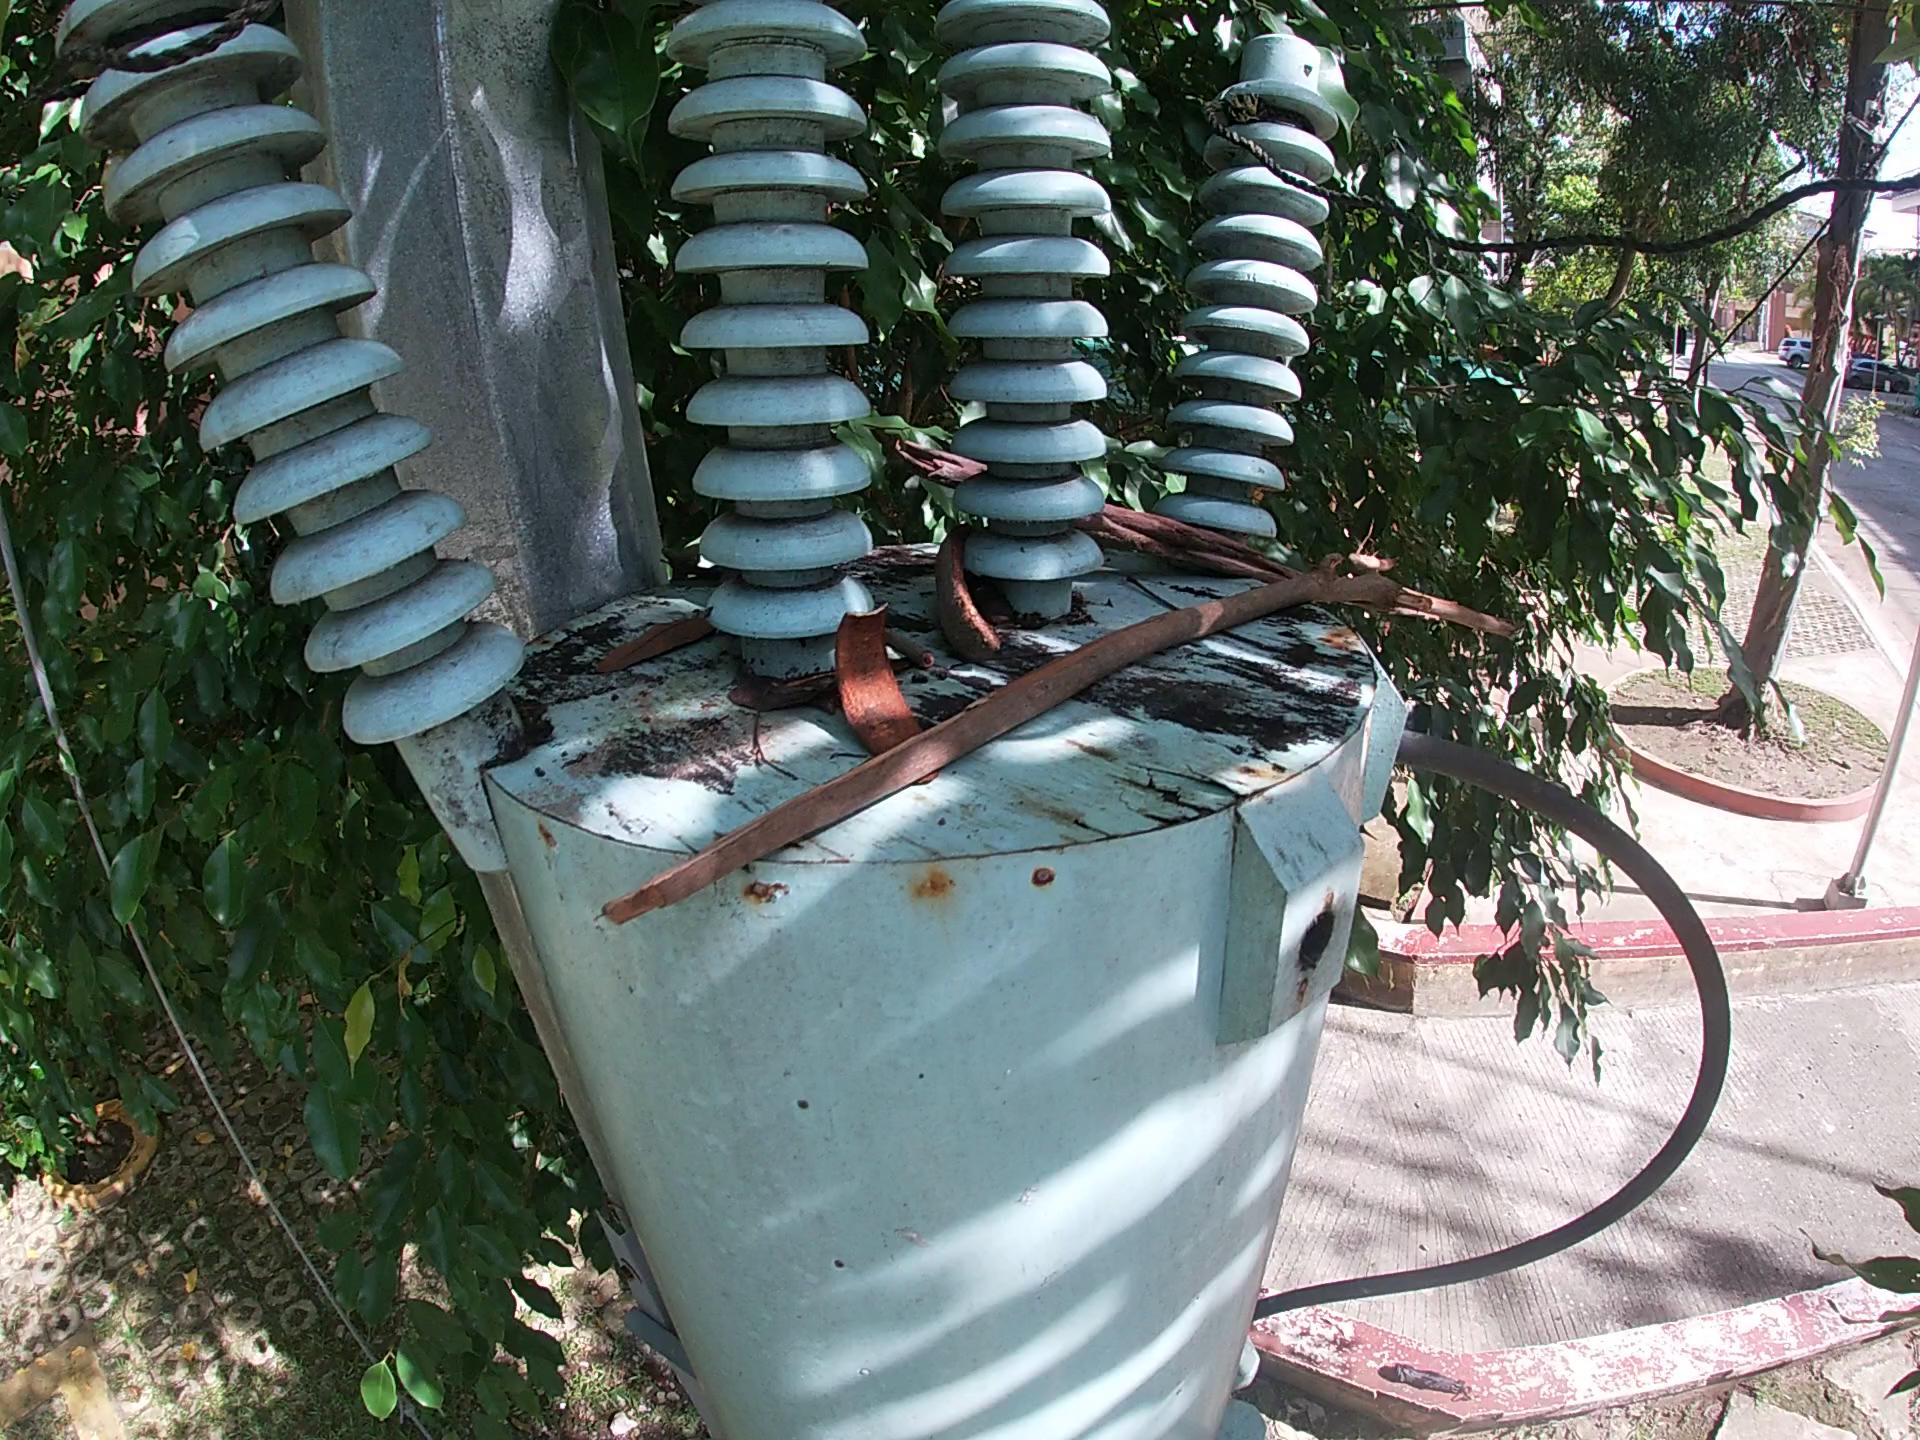leaf: (588, 597, 726, 685)
mahogany fruit: (825, 601, 927, 762), (921, 520, 1008, 667)
tree branch: (591, 532, 1531, 939), (887, 433, 1312, 579), (883, 625, 945, 678)
